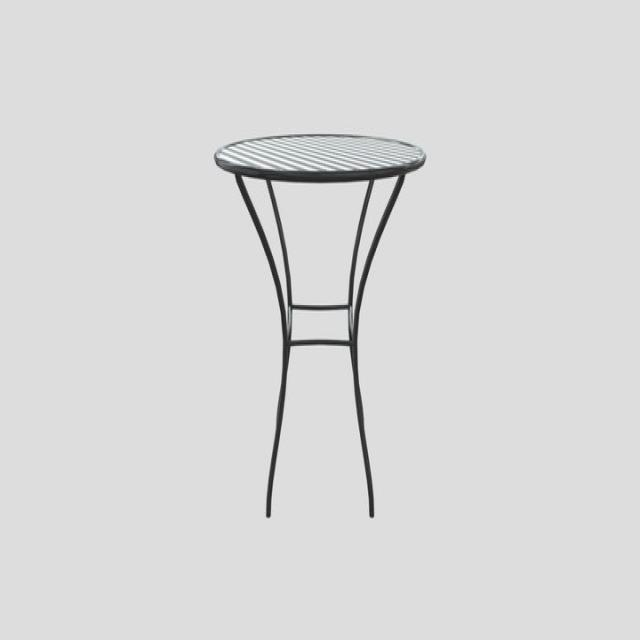table: (214, 132, 425, 518)
